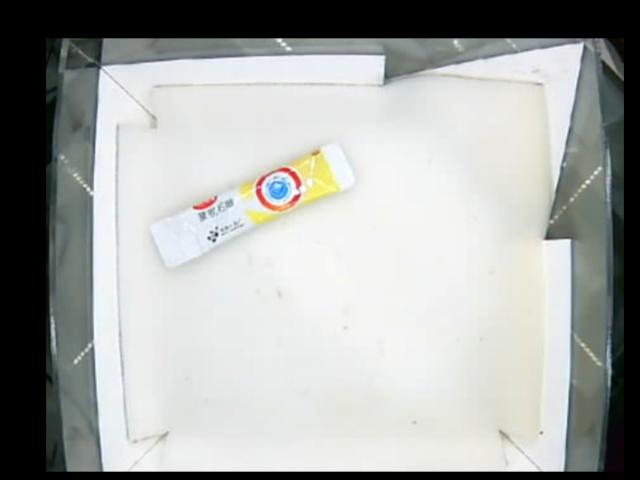Medicine: (150, 143, 354, 269)
